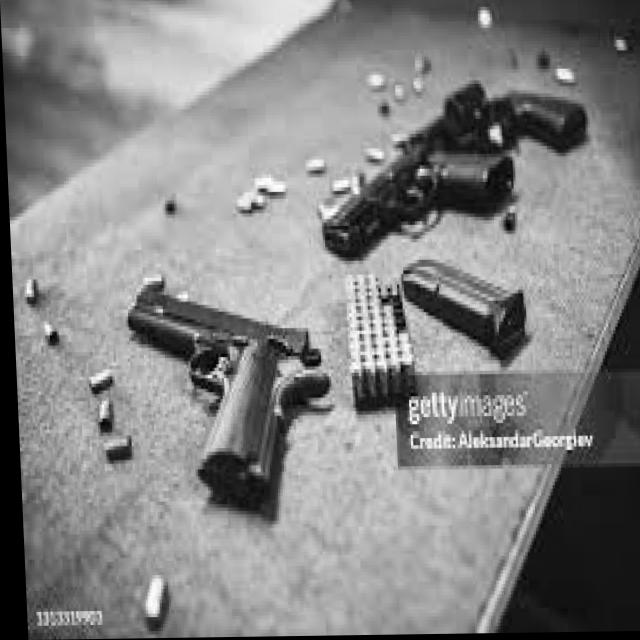handgun: (127, 285, 333, 518), (313, 152, 520, 259), (391, 78, 591, 158)
